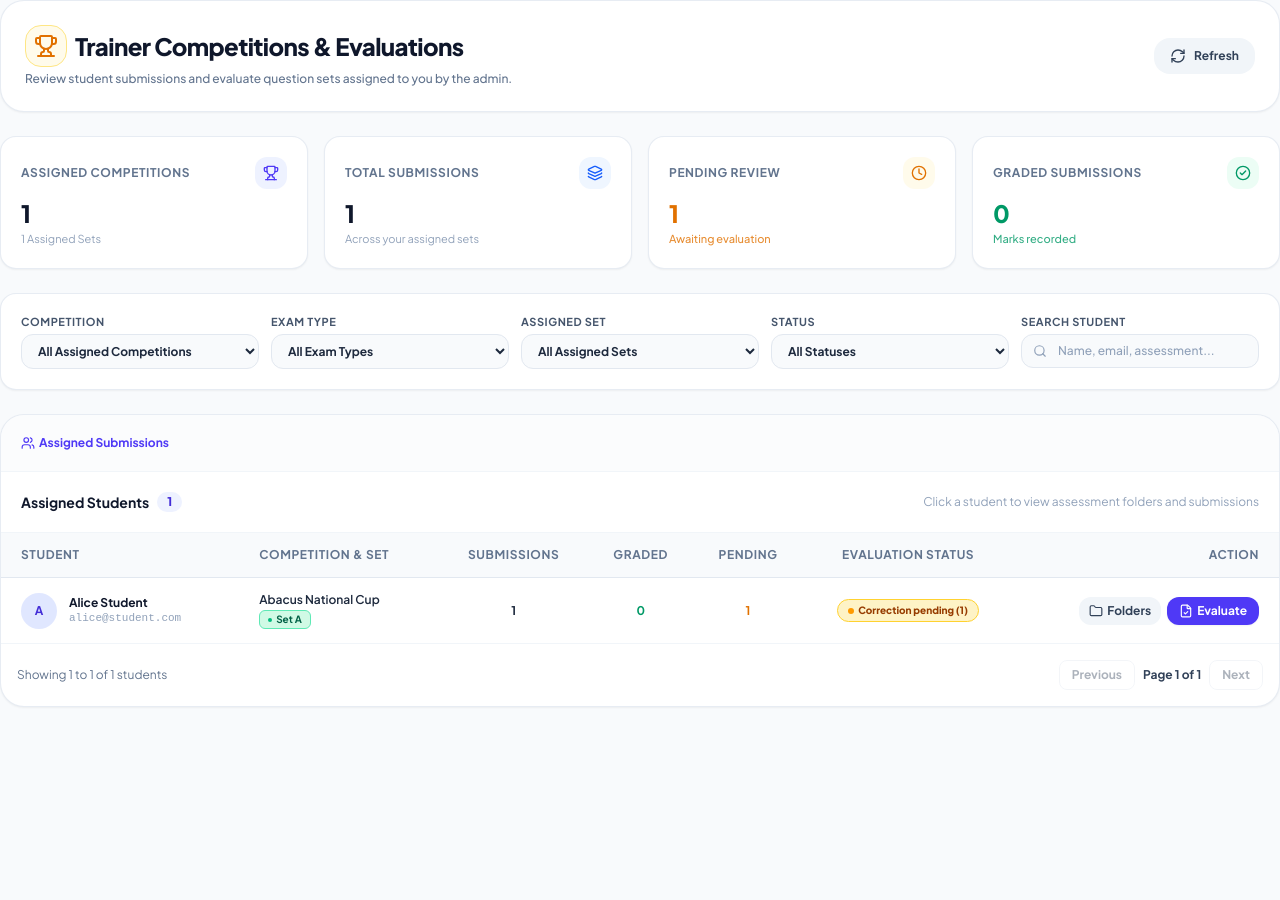
Test case: Part B: Trainer Portal Enhancements (B1, B2, B3) › B3: TrainerCompetitionsPage displays assigned competitions, stats, and submissions table
Expected: the heading "Trainer Competitions & Evaluations" is shown, top-left (75, 30), bottom-right (464, 62)
Expected: the text "Assigned Competitions" is shown, top-left (21, 165), bottom-right (190, 181)
// Click "Evaluate" button to open evaluation drawer
Click the button "Evaluate". click: (1213, 611)
box: top-left (1167, 597), bottom-right (1259, 625)
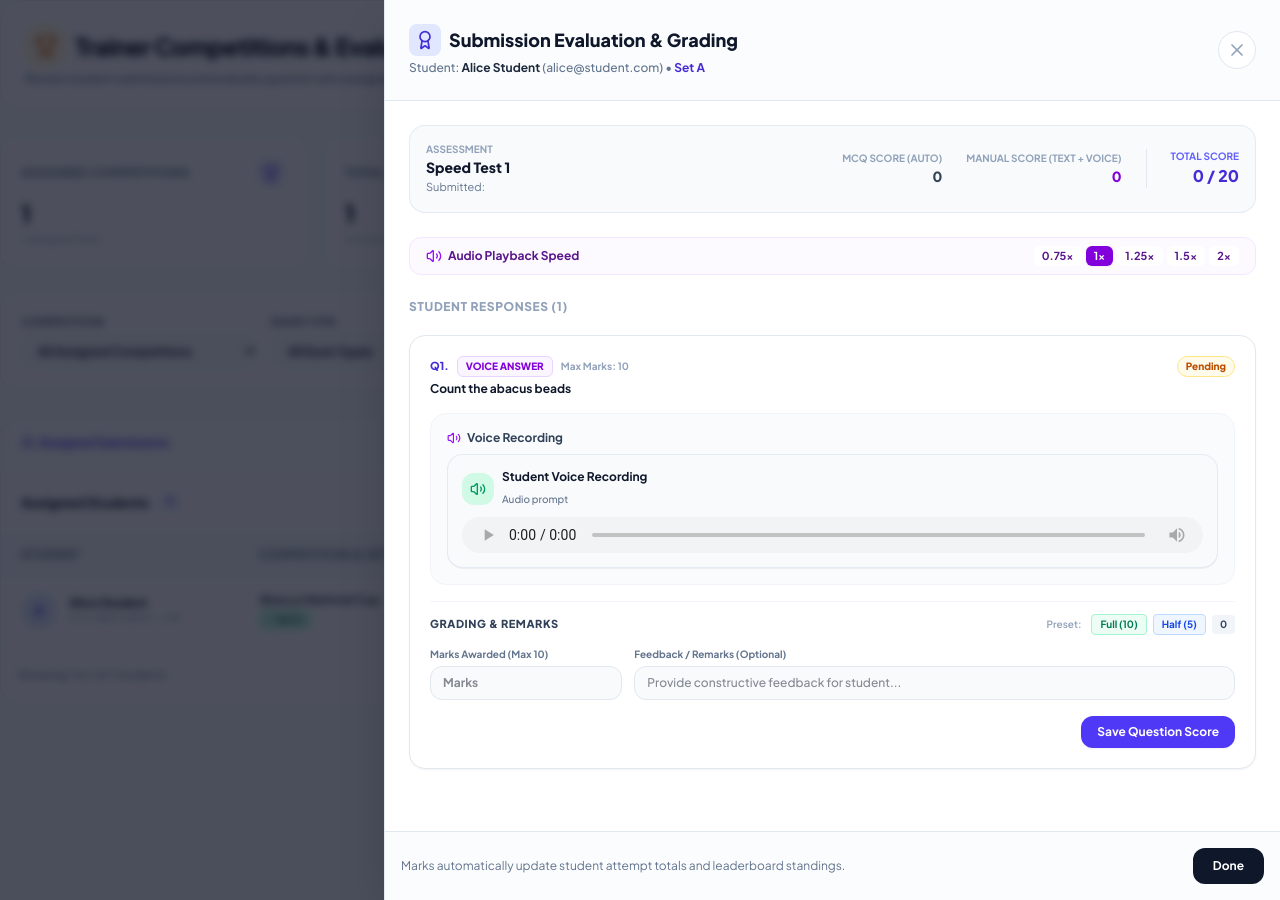
Result: the heading "Submission Evaluation & Grading" is shown at top-left (449, 26), bottom-right (738, 54)
Result: the heading "Count the abacus beads" is shown at top-left (430, 381), bottom-right (571, 396)
Result: the text "Voice Recording" is shown at top-left (447, 430), bottom-right (563, 446)
